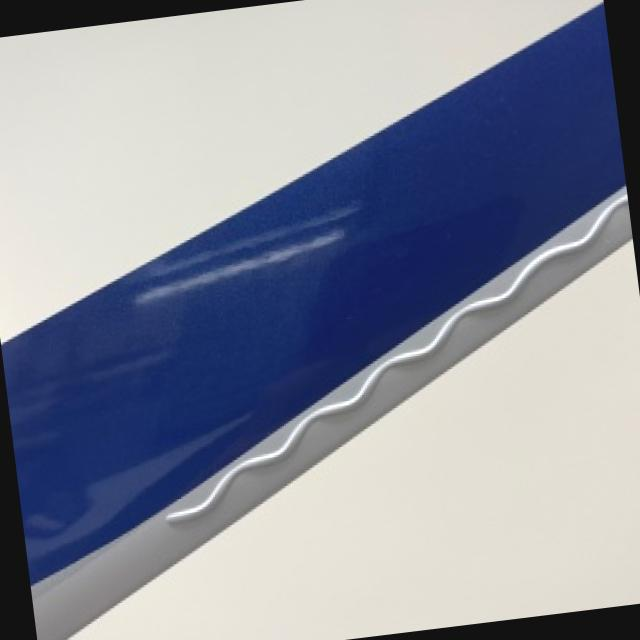healthy: (65, 241, 640, 640)
